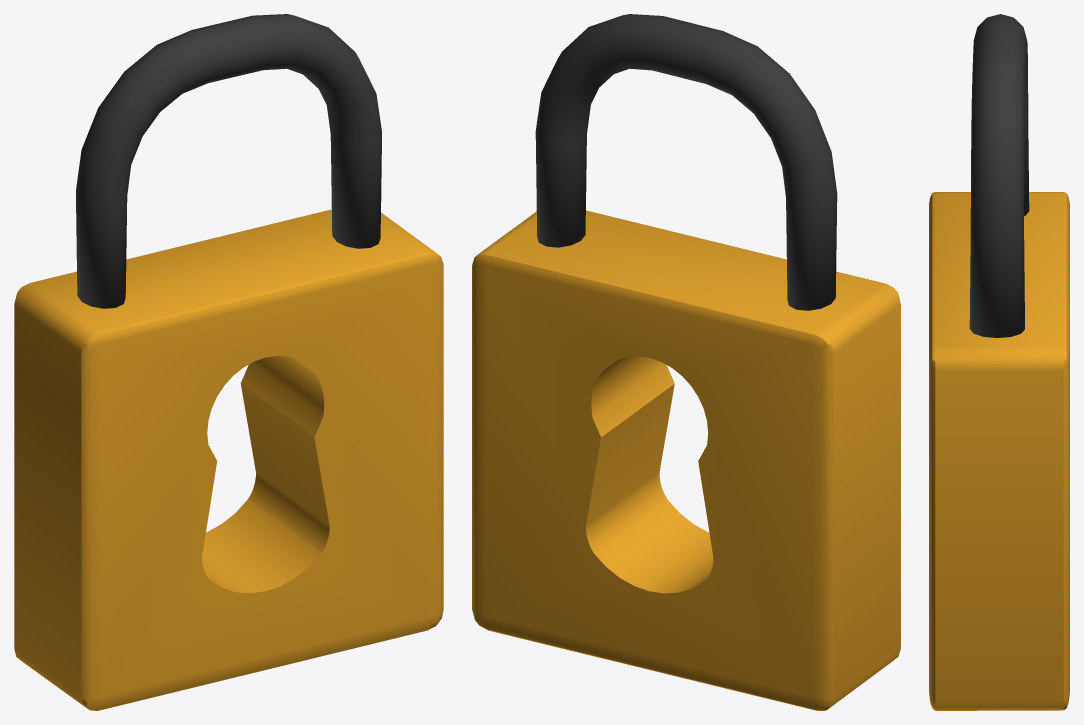
The model's file is kilit.fbx.
3 views of the same model, side by side, from view 1: azimuth 30°, elevation 25°; view 2: azimuth 150°, elevation 25°; view 3: azimuth 270°, elevation 25° (orthographic). The views are drawn at different scales.
Parts seen in each view (by area): view 1: kilit, ust; view 2: kilit, ust; view 3: kilit, ust.
Part boxes in pixels (bbox=[...]): kilit: bbox=[14, 209, 443, 710]; ust: bbox=[76, 14, 381, 308]; kilit: bbox=[472, 210, 900, 710]; ust: bbox=[535, 14, 837, 310]; kilit: bbox=[929, 192, 1069, 710]; ust: bbox=[969, 14, 1029, 337].
Bounding box in the file's own units: 200 × 328 × 70.52.
